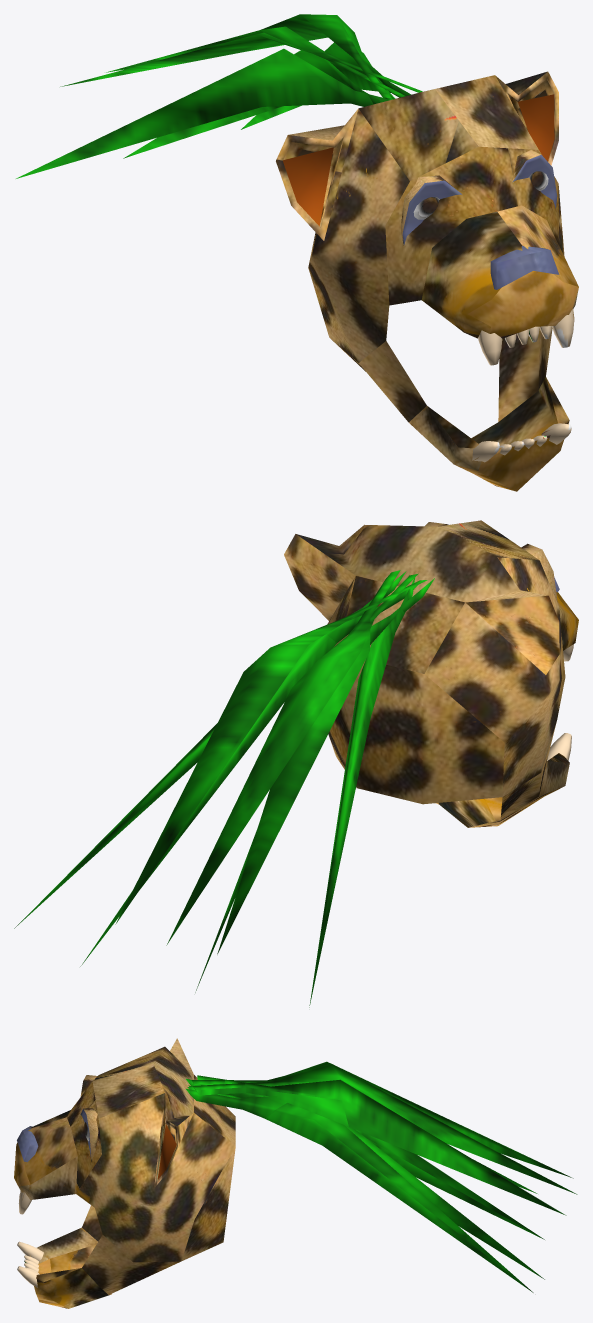
File: mixtec_jaguar_helmet.dae
The picture shows the model from 3 angles, top to bottom: view 1: azimuth 30°, elevation 25°; view 2: azimuth 150°, elevation 25°; view 3: azimuth 270°, elevation 25°; orthographic projection. The views are drawn at different scales.
Parts seen in each view (by area): view 1: mixtec_jaguar; view 2: mixtec_jaguar; view 3: mixtec_jaguar.
Part boxes in pixels (left/top/right/bottom): mixtec_jaguar: left=16, top=14, right=578, bottom=491; mixtec_jaguar: left=14, top=520, right=578, bottom=1007; mixtec_jaguar: left=14, top=1038, right=577, bottom=1308.
Size of the model in its own units: 0.7946 by 1.83 by 0.8741.
